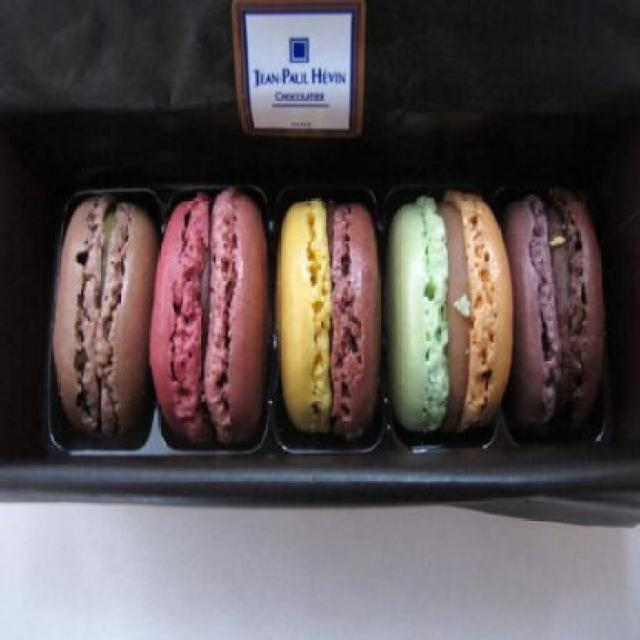Macaron: (45, 178, 628, 458)
